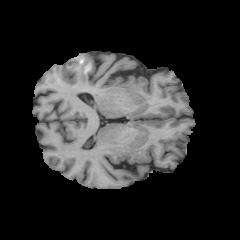glioma: (62, 53, 95, 84)
